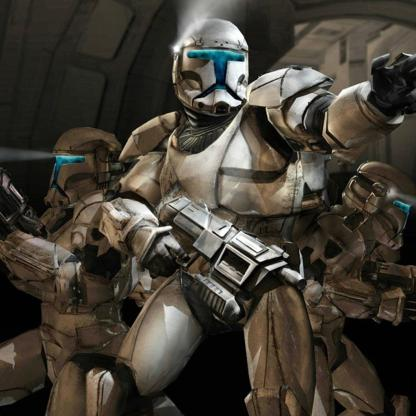Helmet: (168, 22, 251, 131), (339, 159, 415, 252), (45, 127, 123, 212)
